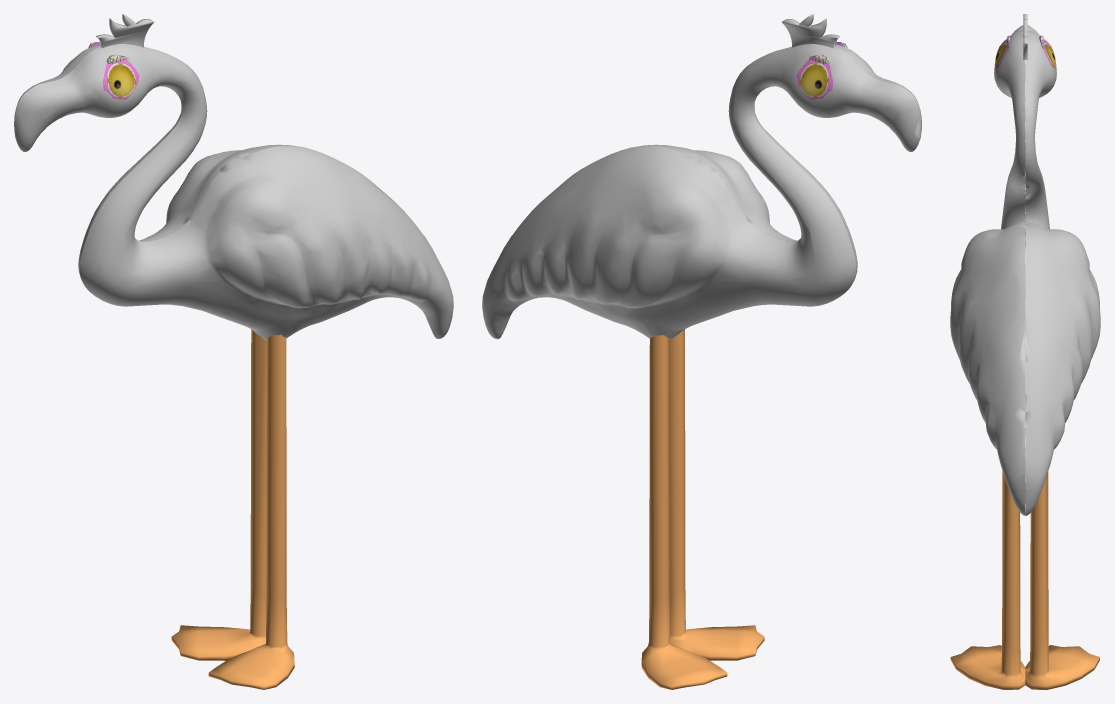
The model's file is flamingo.dae.
3 renders of one model, left to right at view 1: azimuth 30°, elevation 25°; view 2: azimuth 150°, elevation 25°; view 3: azimuth 270°, elevation 25°, orthographic. The views are drawn at different scales.
Visible parts, largest first — view 1: group_0 (×5); view 2: group_0 (×5); view 3: group_0 (×2).
Boxes of the visible parts, <box> form: group_0 (×5): <box>14,14,453,689</box>; group_0 (×5): <box>482,14,921,689</box>; group_0 (×2): <box>950,30,1100,689</box>.
Size of the model in its own units: 28.35 by 9.46 by 41.81.
